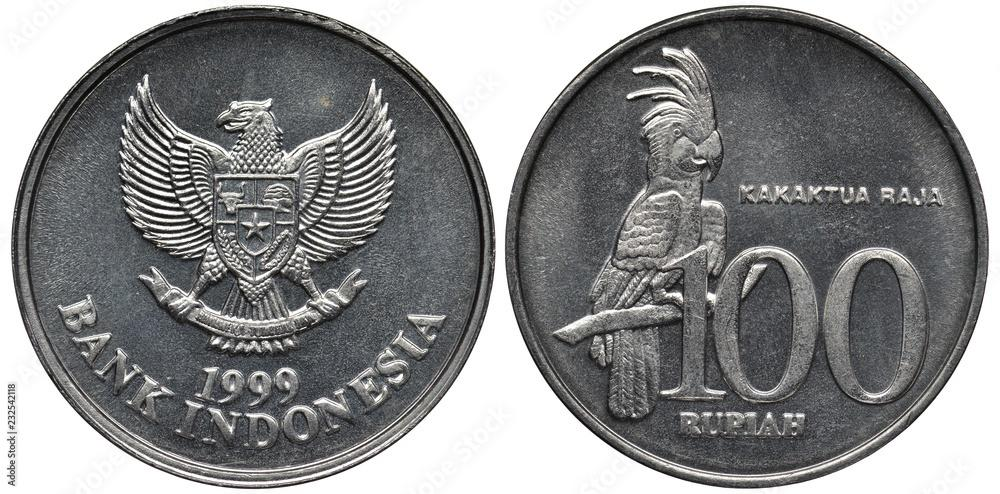coin_100_e1999: (13, 3, 498, 494), (503, 5, 992, 488)
